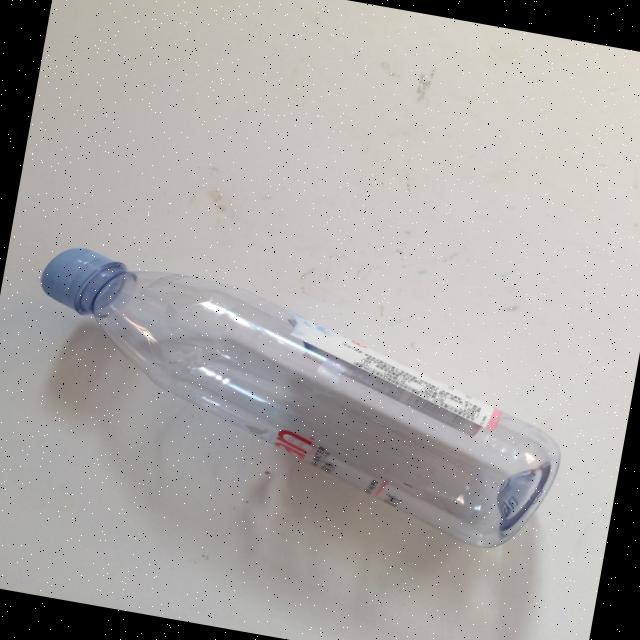plastic: (7, 240, 583, 559)
